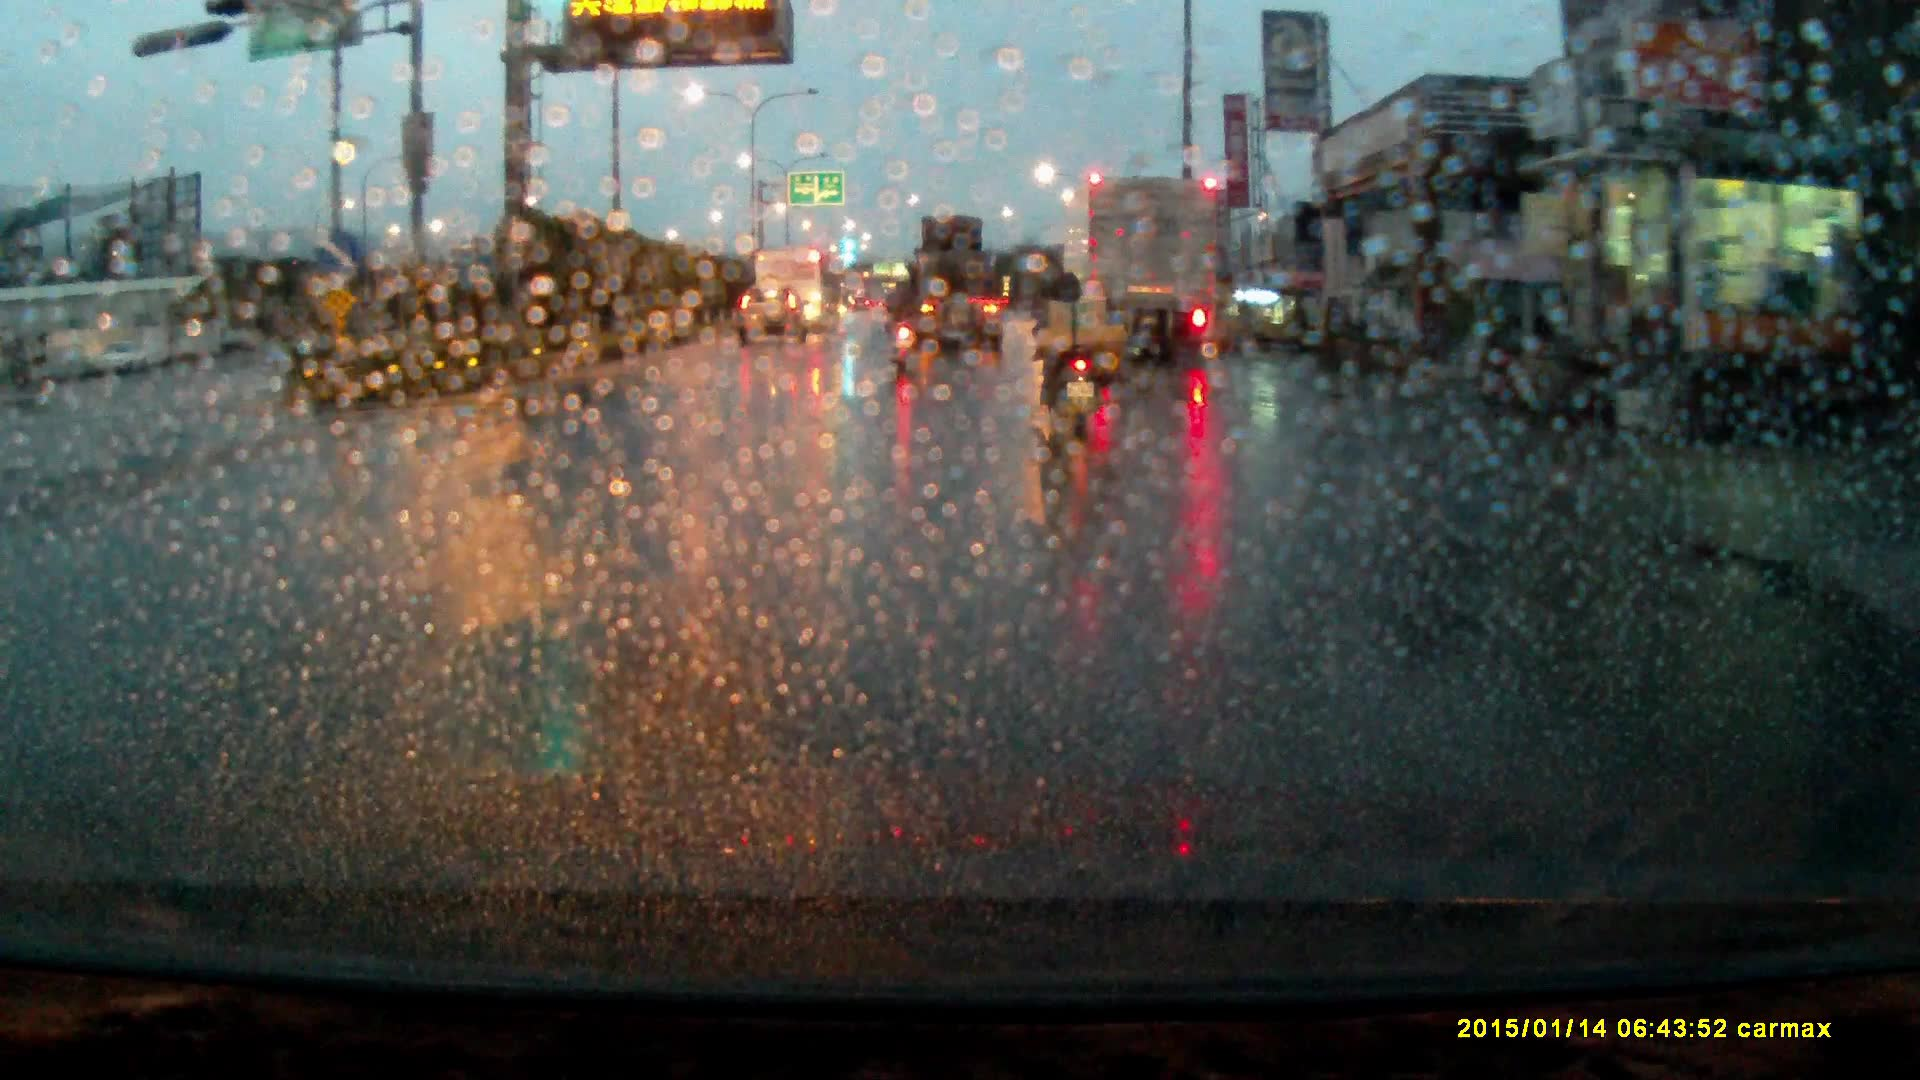rider: (1033, 263, 1116, 436), (890, 268, 927, 367)
vehicle: (1063, 178, 1226, 366), (899, 216, 1001, 359), (768, 244, 843, 327), (740, 285, 812, 351)
